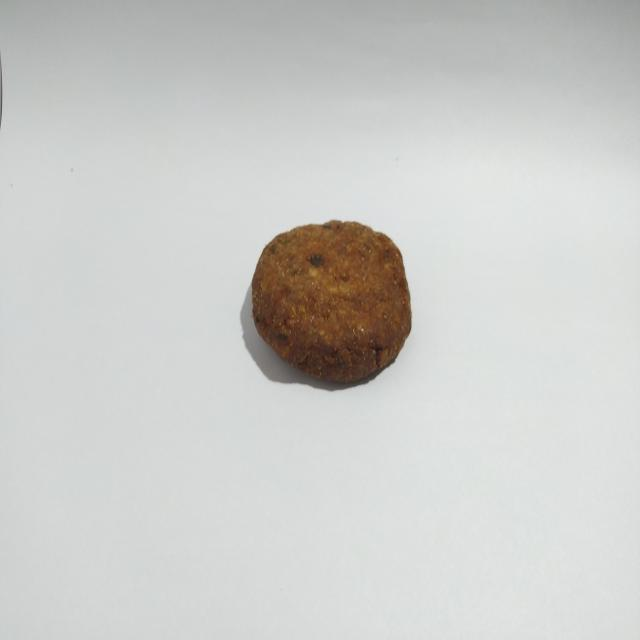Pajagua: (246, 211, 416, 401)
